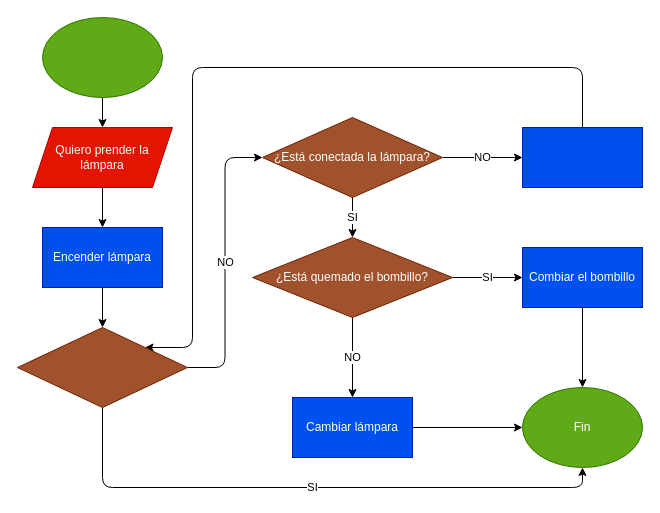
Some shapes in this 660 by 513 pixel diagram are drawn without their labels. The shapes that lost their labels are listed below. From the top down, each one's centre as x and y in pixels, then its label:
point (102, 57): Inicio
point (582, 157): Conectar la lámpara
point (102, 367): ¿Encendió?
